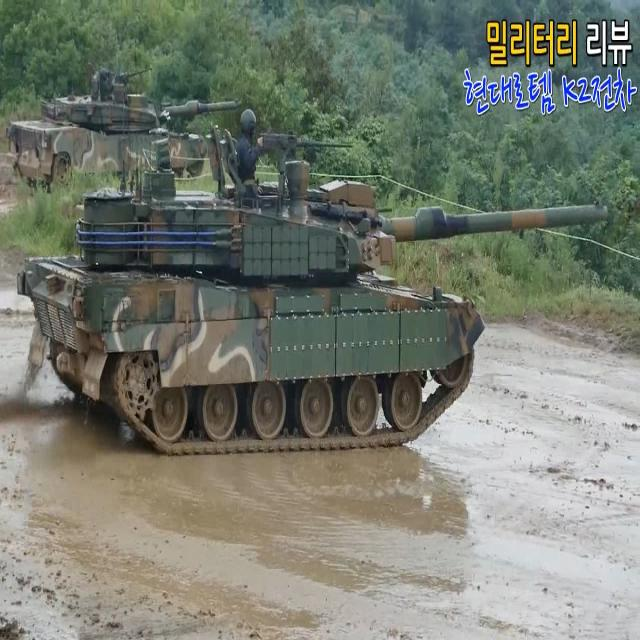korea tank: (16, 108, 608, 450)
